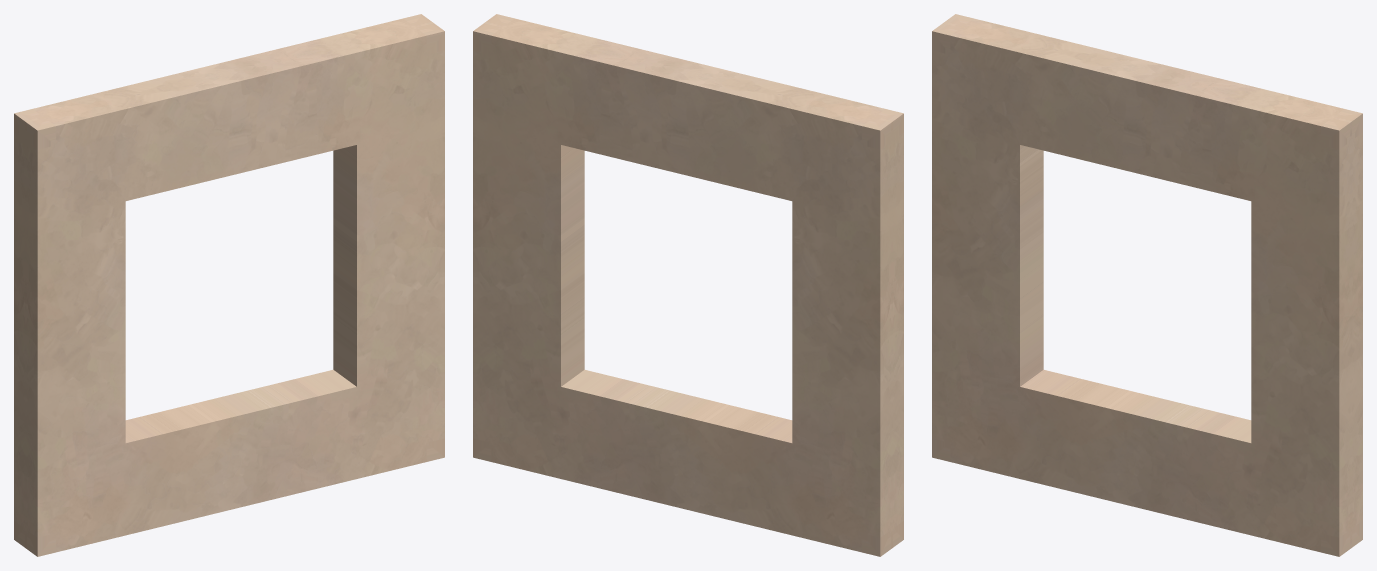
The model's file is SM_BigWall_WindowWall.glb.
The picture shows the model from 3 angles, left to right: view 1: azimuth 30°, elevation 25°; view 2: azimuth 150°, elevation 25°; view 3: azimuth 330°, elevation 25°; orthographic projection.
Visible parts, largest first — view 1: SM_BigWall_WindowWall; view 2: SM_BigWall_WindowWall; view 3: SM_BigWall_WindowWall.
Boxes of the visible parts, x1=… form: SM_BigWall_WindowWall: x1=14, y1=14, x2=444, y2=556; SM_BigWall_WindowWall: x1=473, y1=14, x2=903, y2=556; SM_BigWall_WindowWall: x1=932, y1=14, x2=1362, y2=556.
Bounding box in the file's own units: 2 × 2 × 0.2.
1 material, 1 textured.
